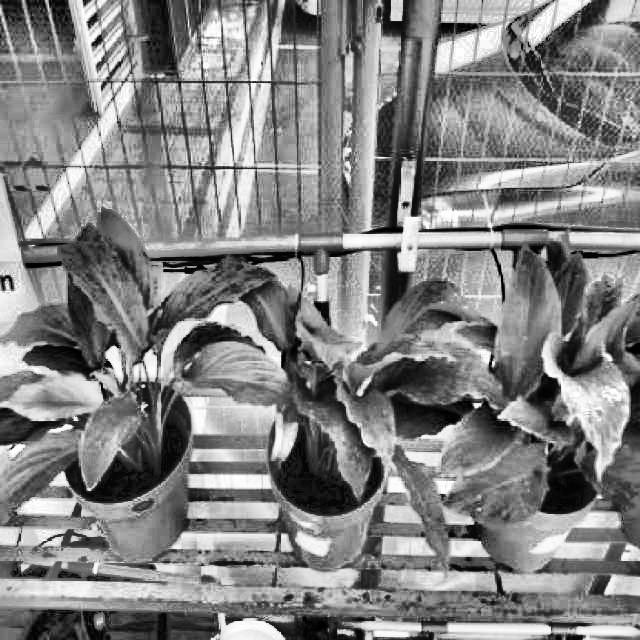plants: (0, 203, 295, 534), (230, 256, 508, 582), (435, 227, 640, 530)
